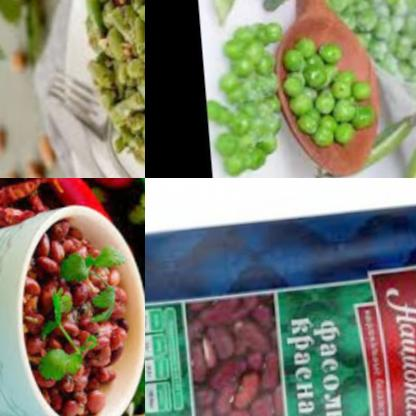fasol: (9, 221, 140, 416), (55, 0, 145, 178), (176, 287, 291, 416), (16, 141, 53, 178), (0, 50, 32, 82), (0, 128, 7, 157)
hot pepper: (0, 178, 103, 240), (28, 178, 136, 203), (0, 178, 64, 212), (0, 207, 35, 232)
peas: (196, 0, 291, 178), (316, 0, 416, 147), (285, 33, 377, 155), (329, 122, 416, 178)
